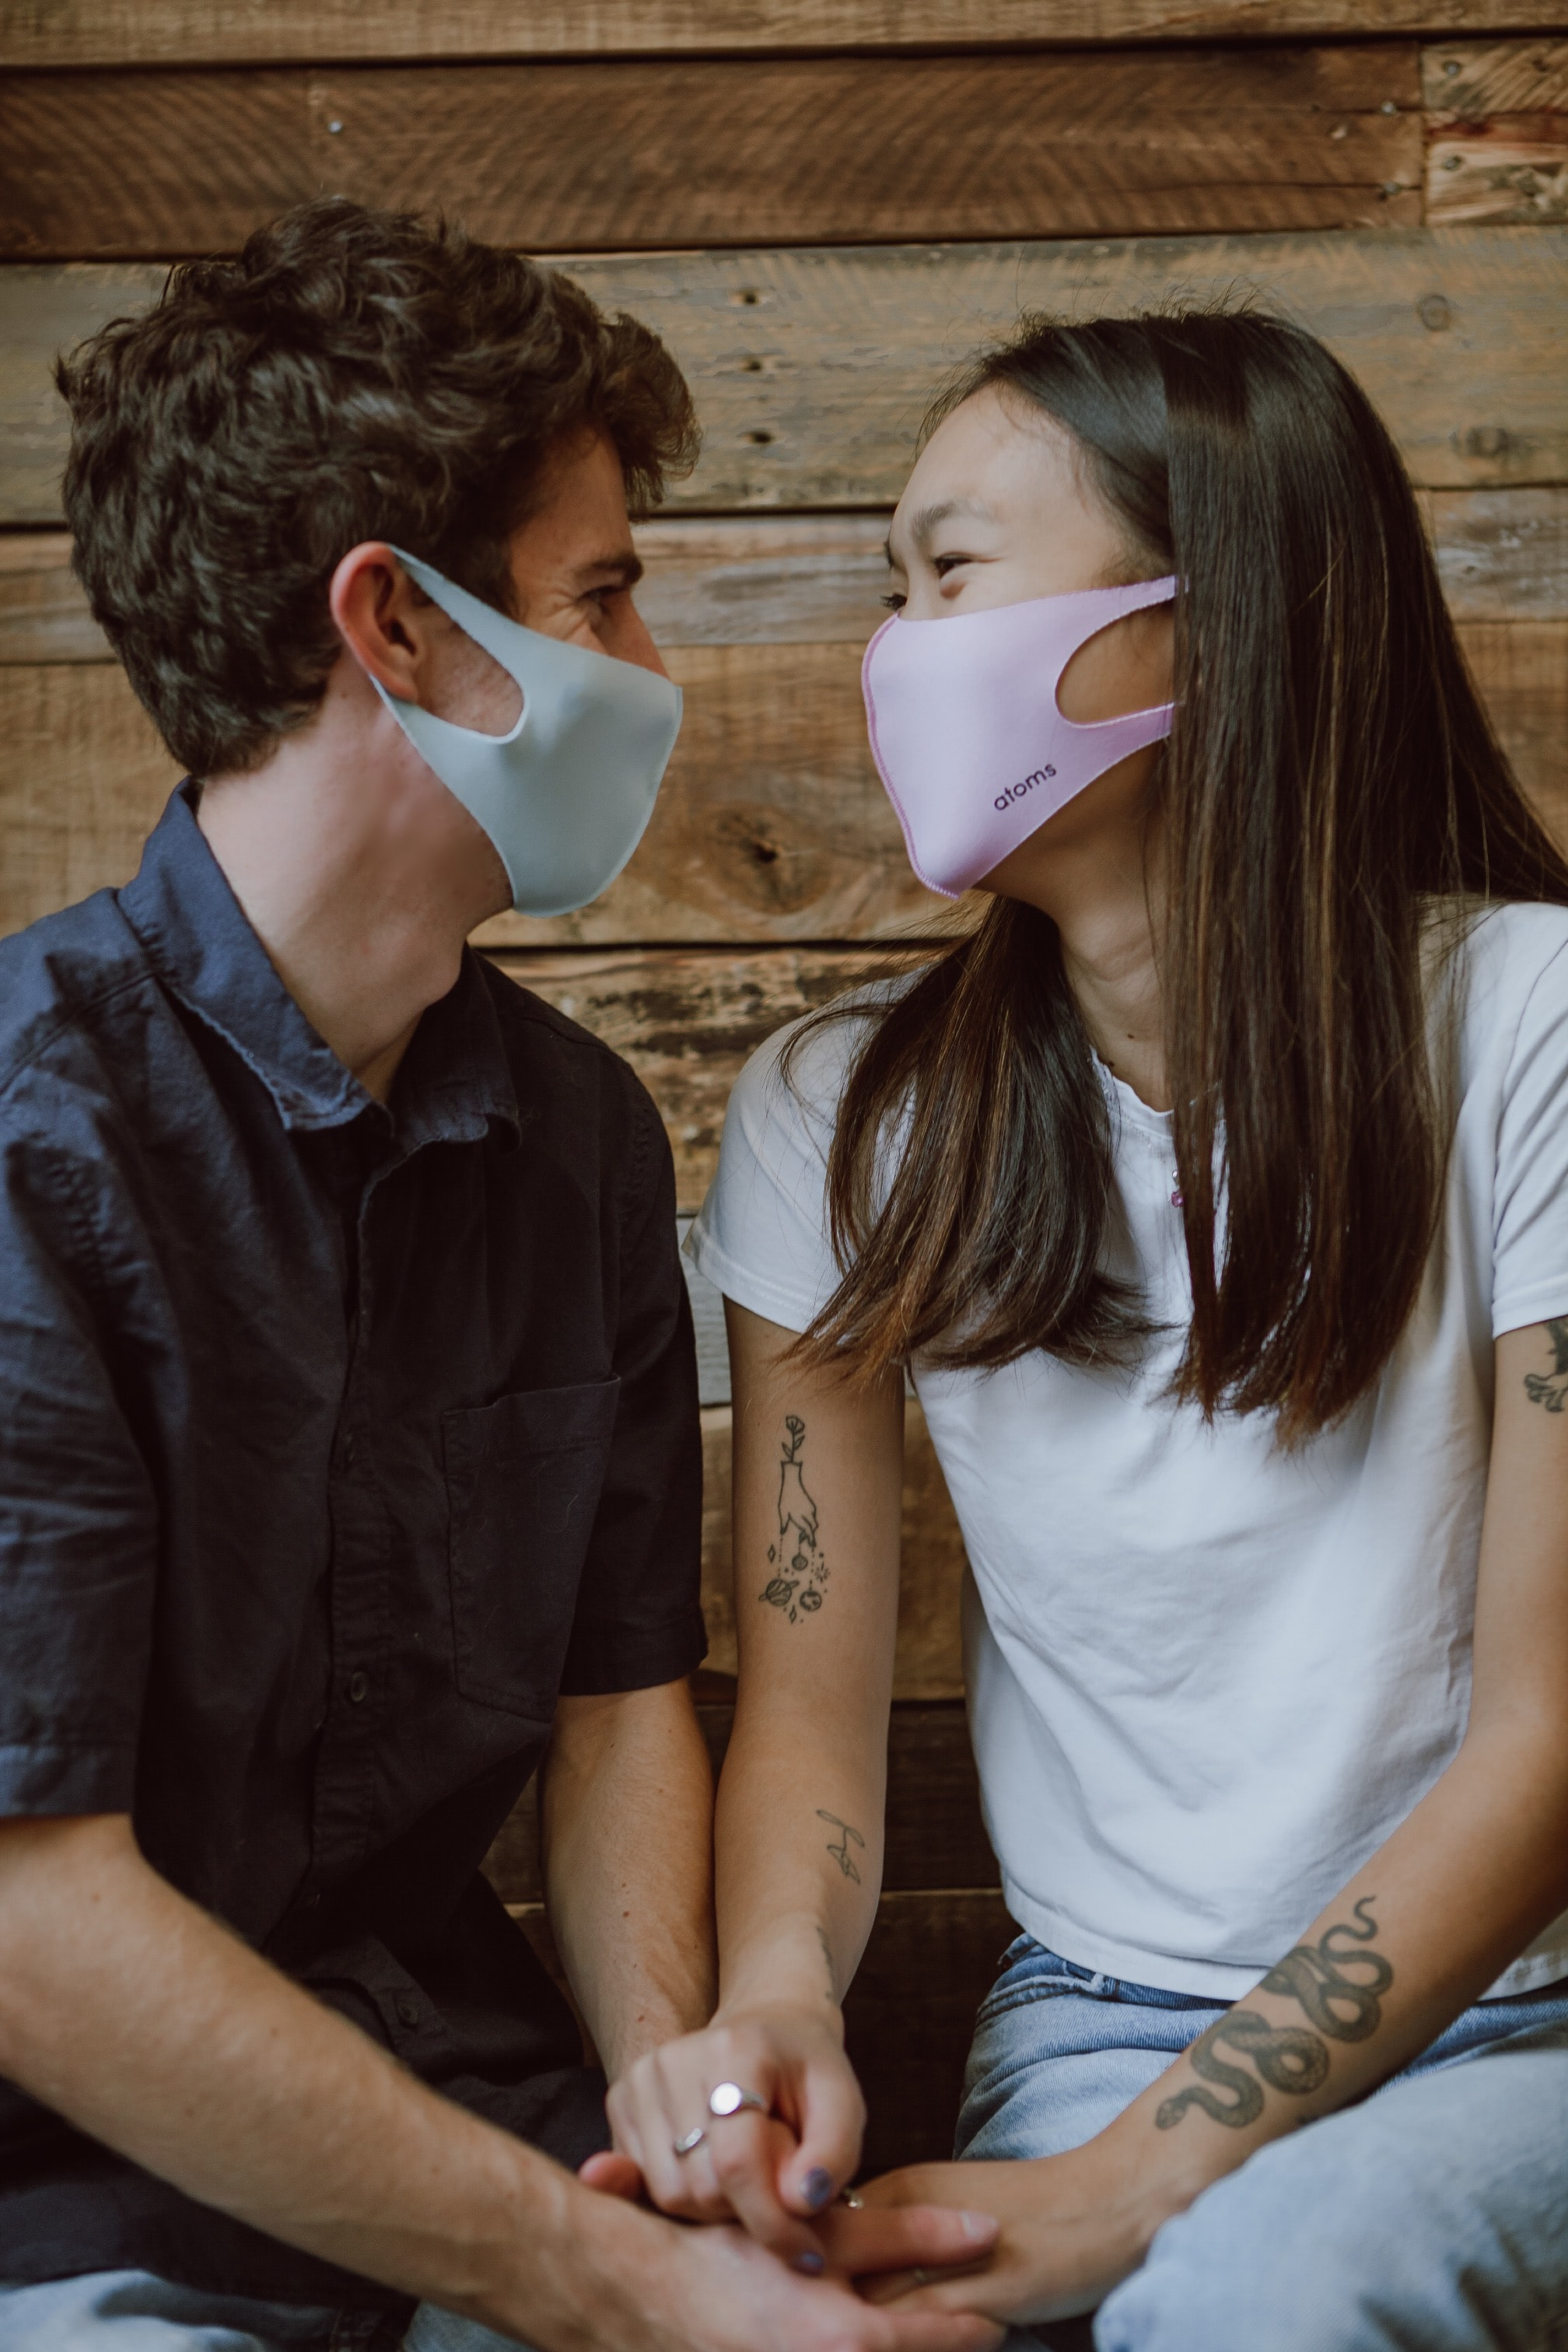mask: (382, 599, 698, 933), (849, 571, 1166, 905)
person: (728, 277, 1568, 2352), (1, 199, 776, 2333)
